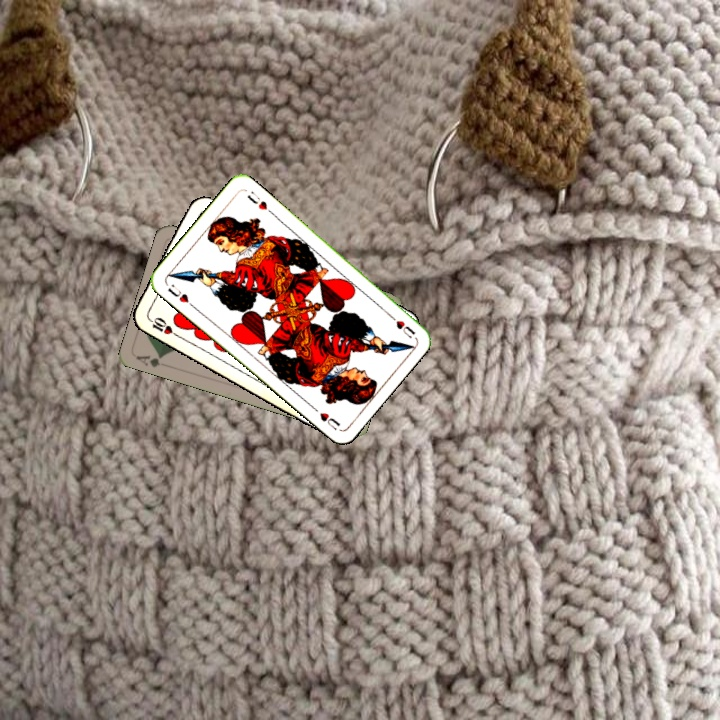GA: (132, 351, 165, 370)
H10: (144, 313, 175, 337)
HU: (384, 310, 418, 341), (164, 284, 197, 310)
